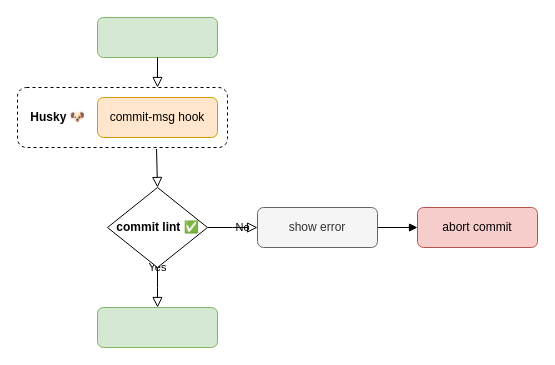
This 555x365 diagram has some shape labels left out. Each missing label, with the box of its shape:
commit: (96, 306, 218, 348)
stage changes: (96, 16, 218, 58)
